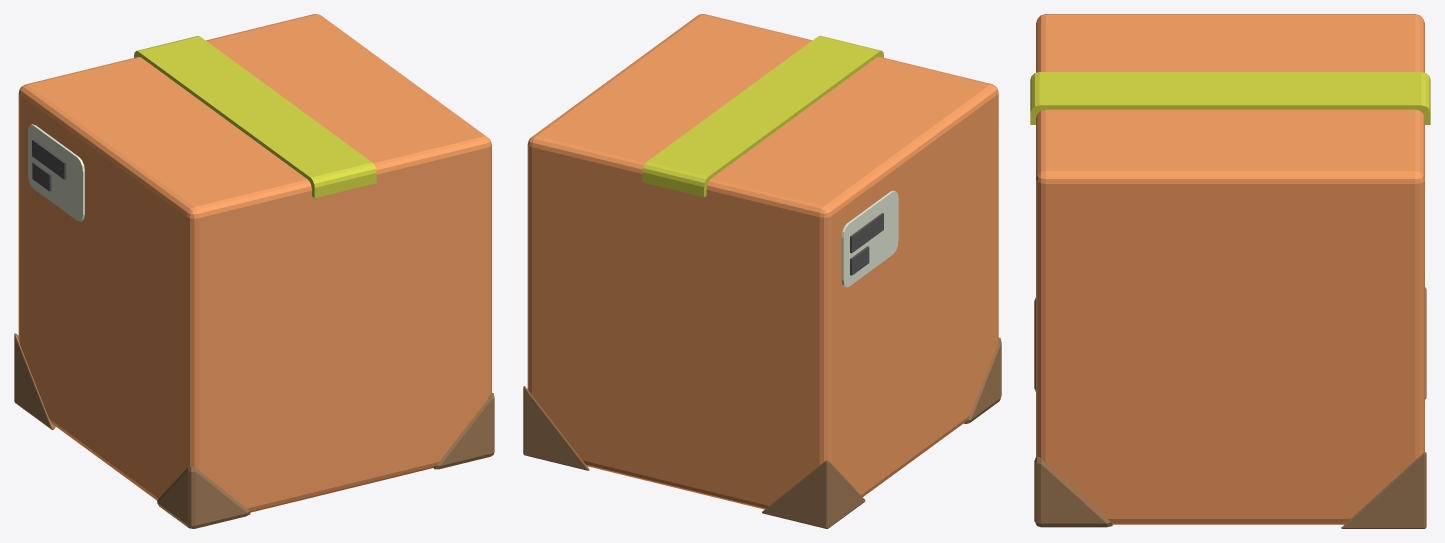
3 renders of one model, left to right at view 1: azimuth 30°, elevation 25°; view 2: azimuth 150°, elevation 25°; view 3: azimuth 270°, elevation 25°, orthographic. The views are drawn at different scales.
Parts seen in each view (by area): view 1: Box, Zip, Corner_03, Label, Corner_01, Corner_04, LaberInfo01; view 2: Box, Zip, Corner_04, Label, Corner_02, Corner_03, LaberInfo01; view 3: Box, Zip, Corner_02, Corner_01.
Boxes of the visible parts, <box> form: Box: <box>18,14,491,512</box>; Zip: <box>134,36,376,197</box>; Corner_03: <box>157,466,250,528</box>; Label: <box>28,124,84,221</box>; Corner_01: <box>433,392,494,469</box>; Corner_04: <box>14,333,55,429</box>; LaberInfo01: <box>32,139,66,179</box>; Box: <box>527,14,998,509</box>; Zip: <box>642,35,883,197</box>; Corner_04: <box>762,460,865,528</box>; Label: <box>841,190,898,287</box>; Corner_02: <box>523,386,589,470</box>; Corner_03: <box>964,337,1001,423</box>; LaberInfo01: <box>850,213,883,253</box>; Box: <box>1036,14,1424,524</box>; Zip: <box>1030,72,1430,124</box>; Corner_02: <box>1341,452,1426,528</box>; Corner_01: <box>1034,457,1112,527</box>.
Size of the model in its own units: 2.04 by 2.03 by 2.06.
